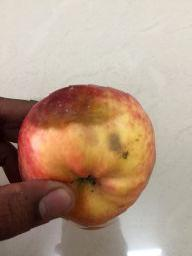Apple Semirotten: (20, 84, 158, 231)
